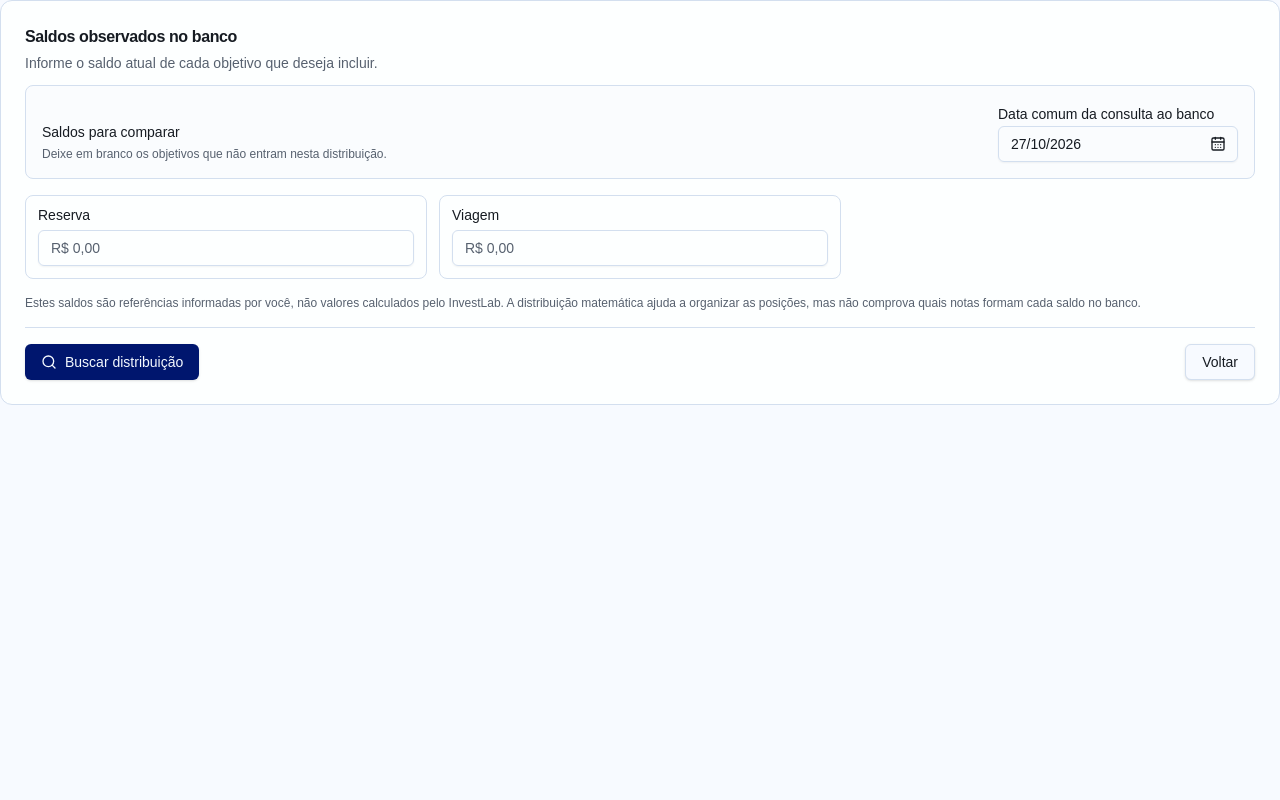
Test: PortfolioObjectiveOrganizer › keeps a preserved position visible without enabling a partial result
In the field labelled "Reserva": (226, 248) [38,230,414,266], type "10000"
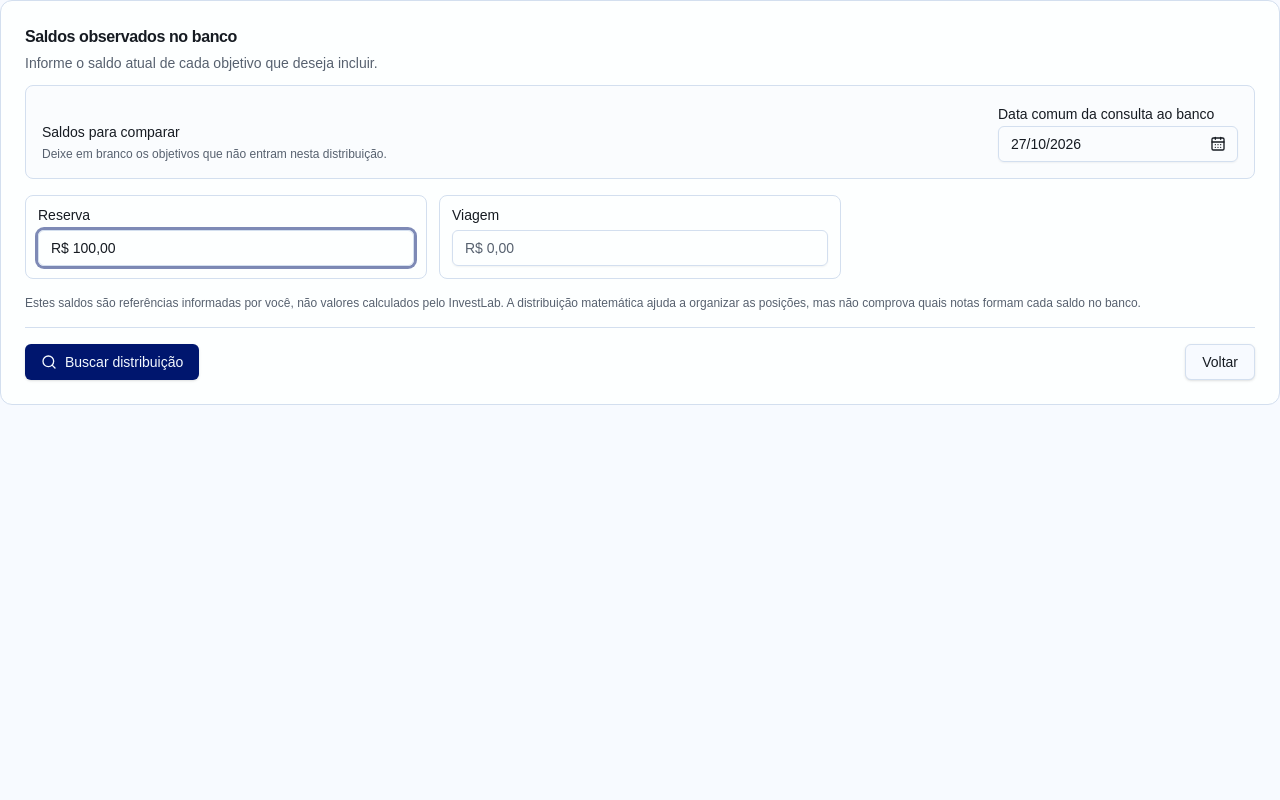
Click the button "Buscar distribuição": (112, 362) [25,344,199,380]
(page scrolled)
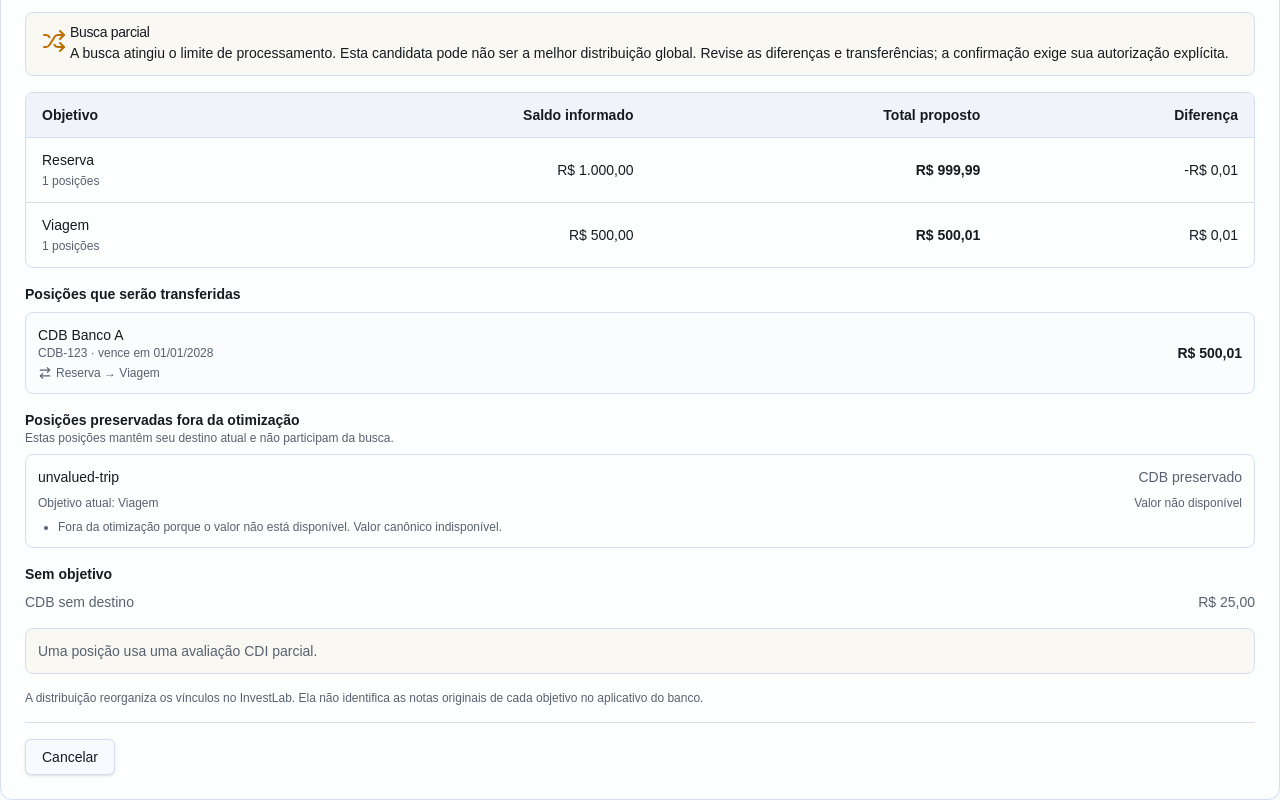
Expected: the heading "Posições preservadas fora da otimização" is shown, [25,412,300,428]
